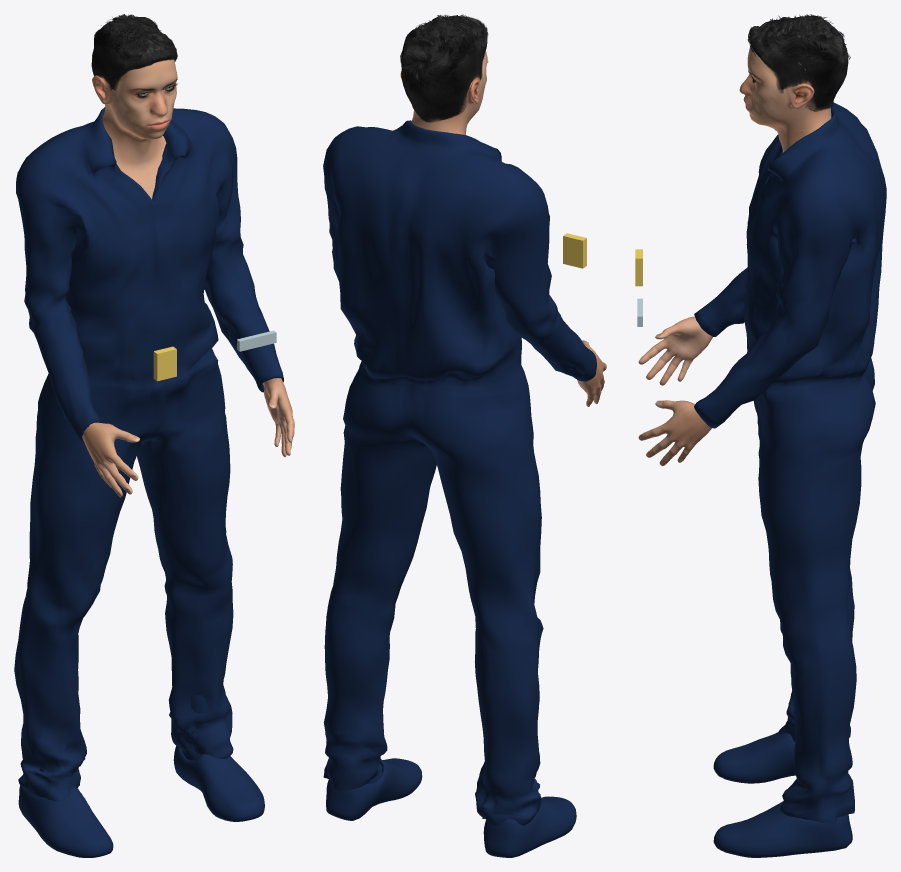
The model's file is polizia-uomo.glb.
3 views of the same model, side by side, from view 1: azimuth 30°, elevation 25°; view 2: azimuth 150°, elevation 25°; view 3: azimuth 270°, elevation 25° (orthographic).
Parts seen in each view (by area): view 1: Human.male_casualsuit01, Human, Human.shoes05, Human.short01, Distintivo, Piastrina polizia; view 2: Human.male_casualsuit01, Human.short01, Human.shoes05, Human, Distintivo; view 3: Human.male_casualsuit01, Human, Human.shoes05, Human.short01.
Part boxes in pixels (bbox=[...]): Human.male_casualsuit01: bbox=[14, 107, 283, 801]; Human: bbox=[82, 59, 294, 497]; Human.shoes05: bbox=[18, 695, 264, 857]; Human.short01: bbox=[91, 14, 177, 90]; Distintivo: bbox=[153, 346, 176, 381]; Piastrina polizia: bbox=[237, 330, 276, 351]; Human.male_casualsuit01: bbox=[323, 120, 596, 825]; Human.short01: bbox=[400, 14, 488, 122]; Human.shoes05: bbox=[326, 758, 576, 857]; Human: bbox=[400, 50, 606, 406]; Distintivo: bbox=[563, 233, 586, 268]; Human.male_casualsuit01: bbox=[694, 102, 886, 823]; Human: bbox=[638, 45, 831, 466]; Human.shoes05: bbox=[713, 732, 852, 857]; Human.short01: bbox=[747, 14, 850, 111].
Size of the model in its own units: 0.5279 by 1.85 by 0.5307.
14 materials, 10 textured.
